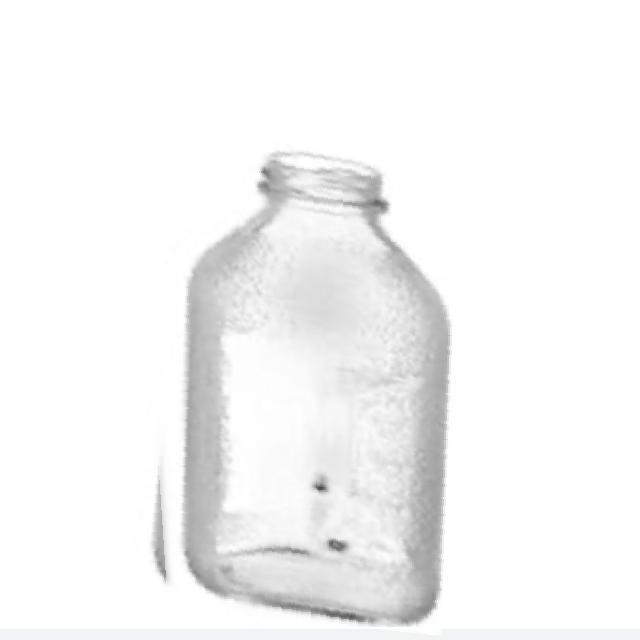recyclable: (135, 98, 482, 628)
